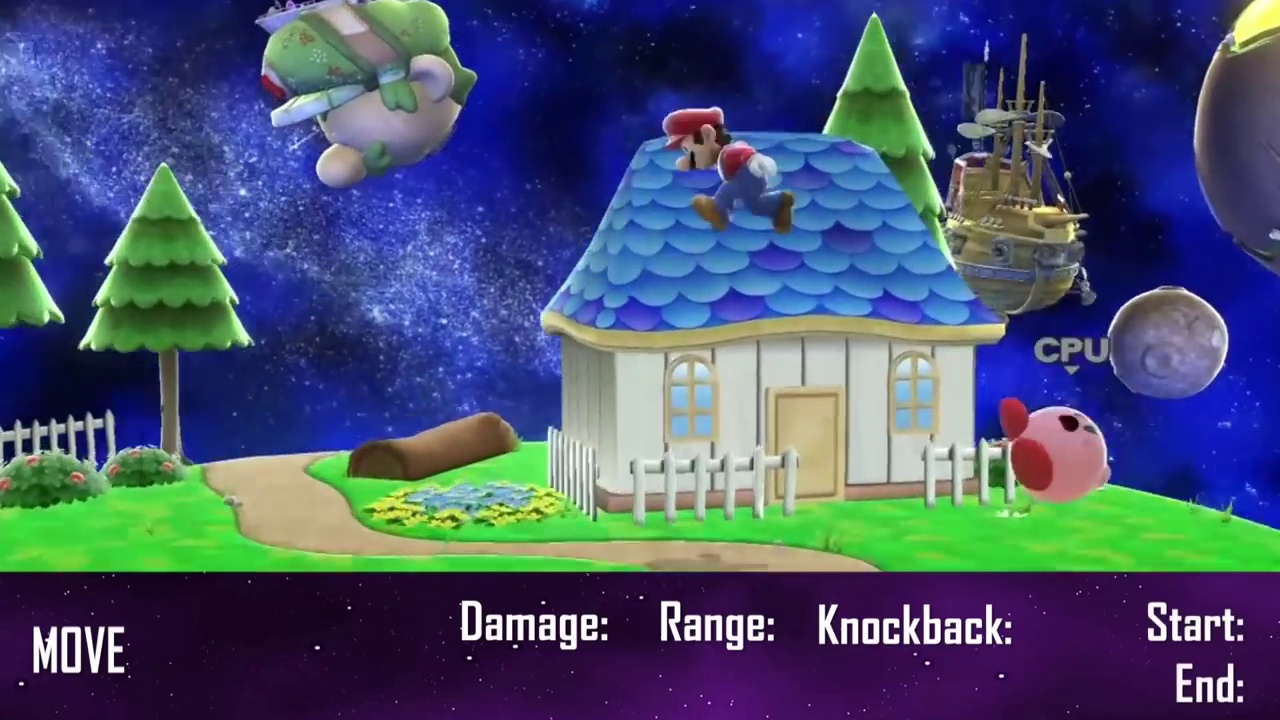Mario: (661, 106, 792, 232)
